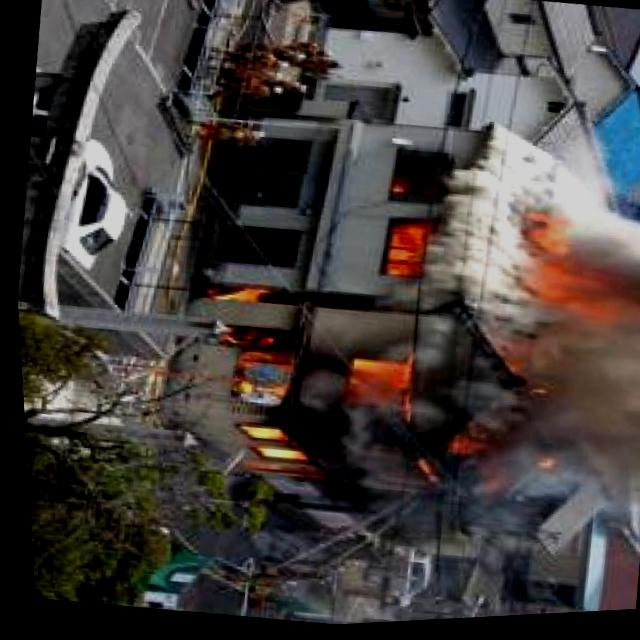Fire: (173, 266, 523, 528), (374, 209, 432, 288)
Smoke: (395, 116, 640, 517)
